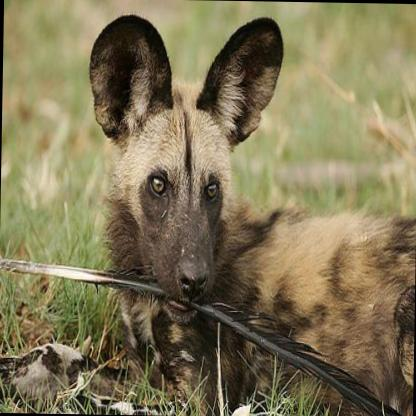African_hunting_dog: (0, 8, 416, 415)
